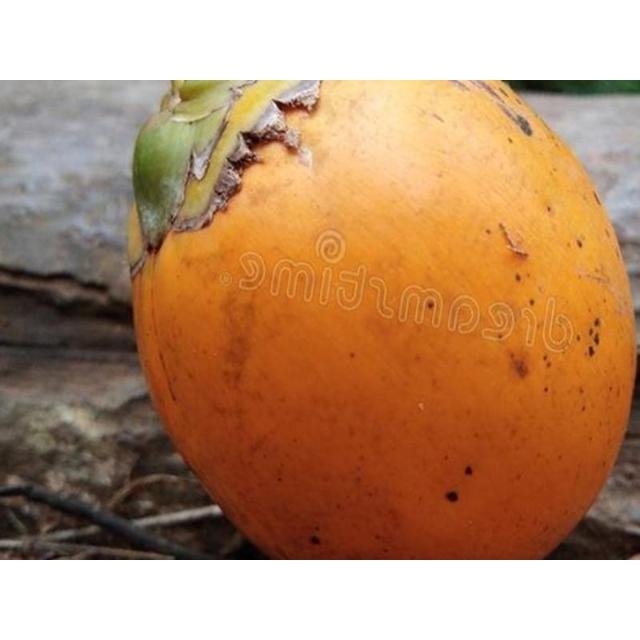good: (126, 80, 639, 559)
